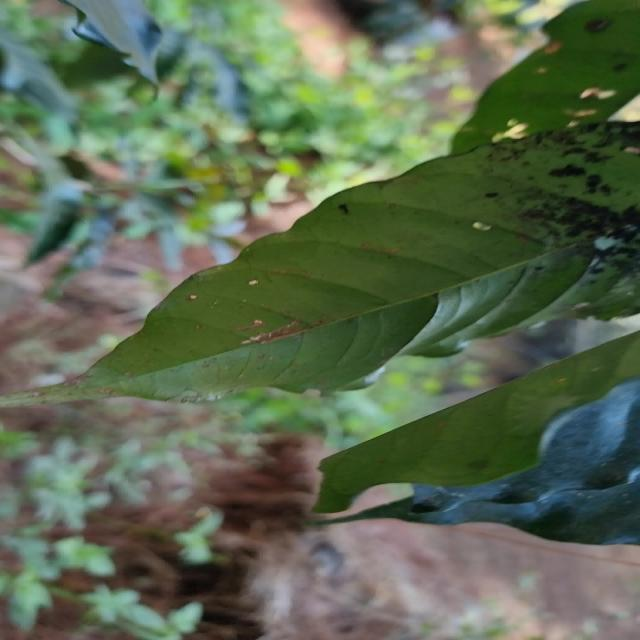leaves: (47, 107, 640, 450)
